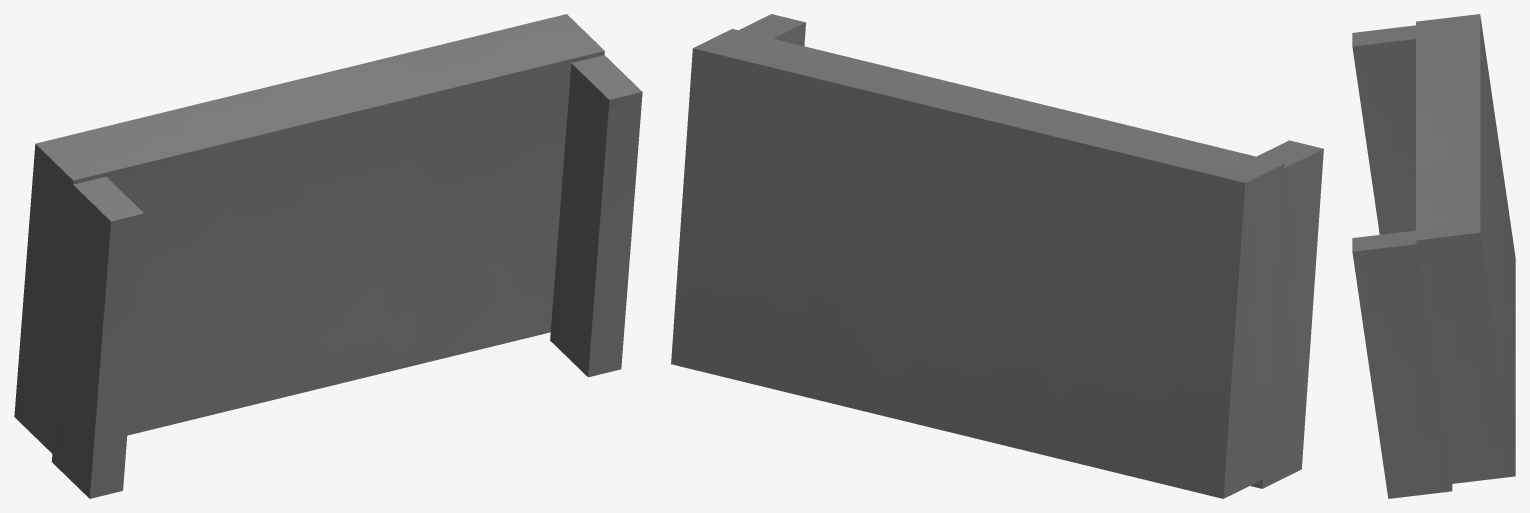
Rendered from dc_metro_arch_b4.obj.
The picture shows the model from 3 angles, left to right: view 1: azimuth 30°, elevation 25°; view 2: azimuth 150°, elevation 25°; view 3: azimuth 270°, elevation 25°; orthographic projection. The views are drawn at different scales.
Visible parts, largest first — view 1: part4; view 2: part4; view 3: part4.
Part boxes in pixels (box(x1,y1,x2,y2)): part4: box(14, 14, 642, 498); part4: box(671, 14, 1323, 498); part4: box(1352, 14, 1515, 498).
Size of the model in its own units: 2 by 1.13 by 0.6303.
1 material, 1 textured.
